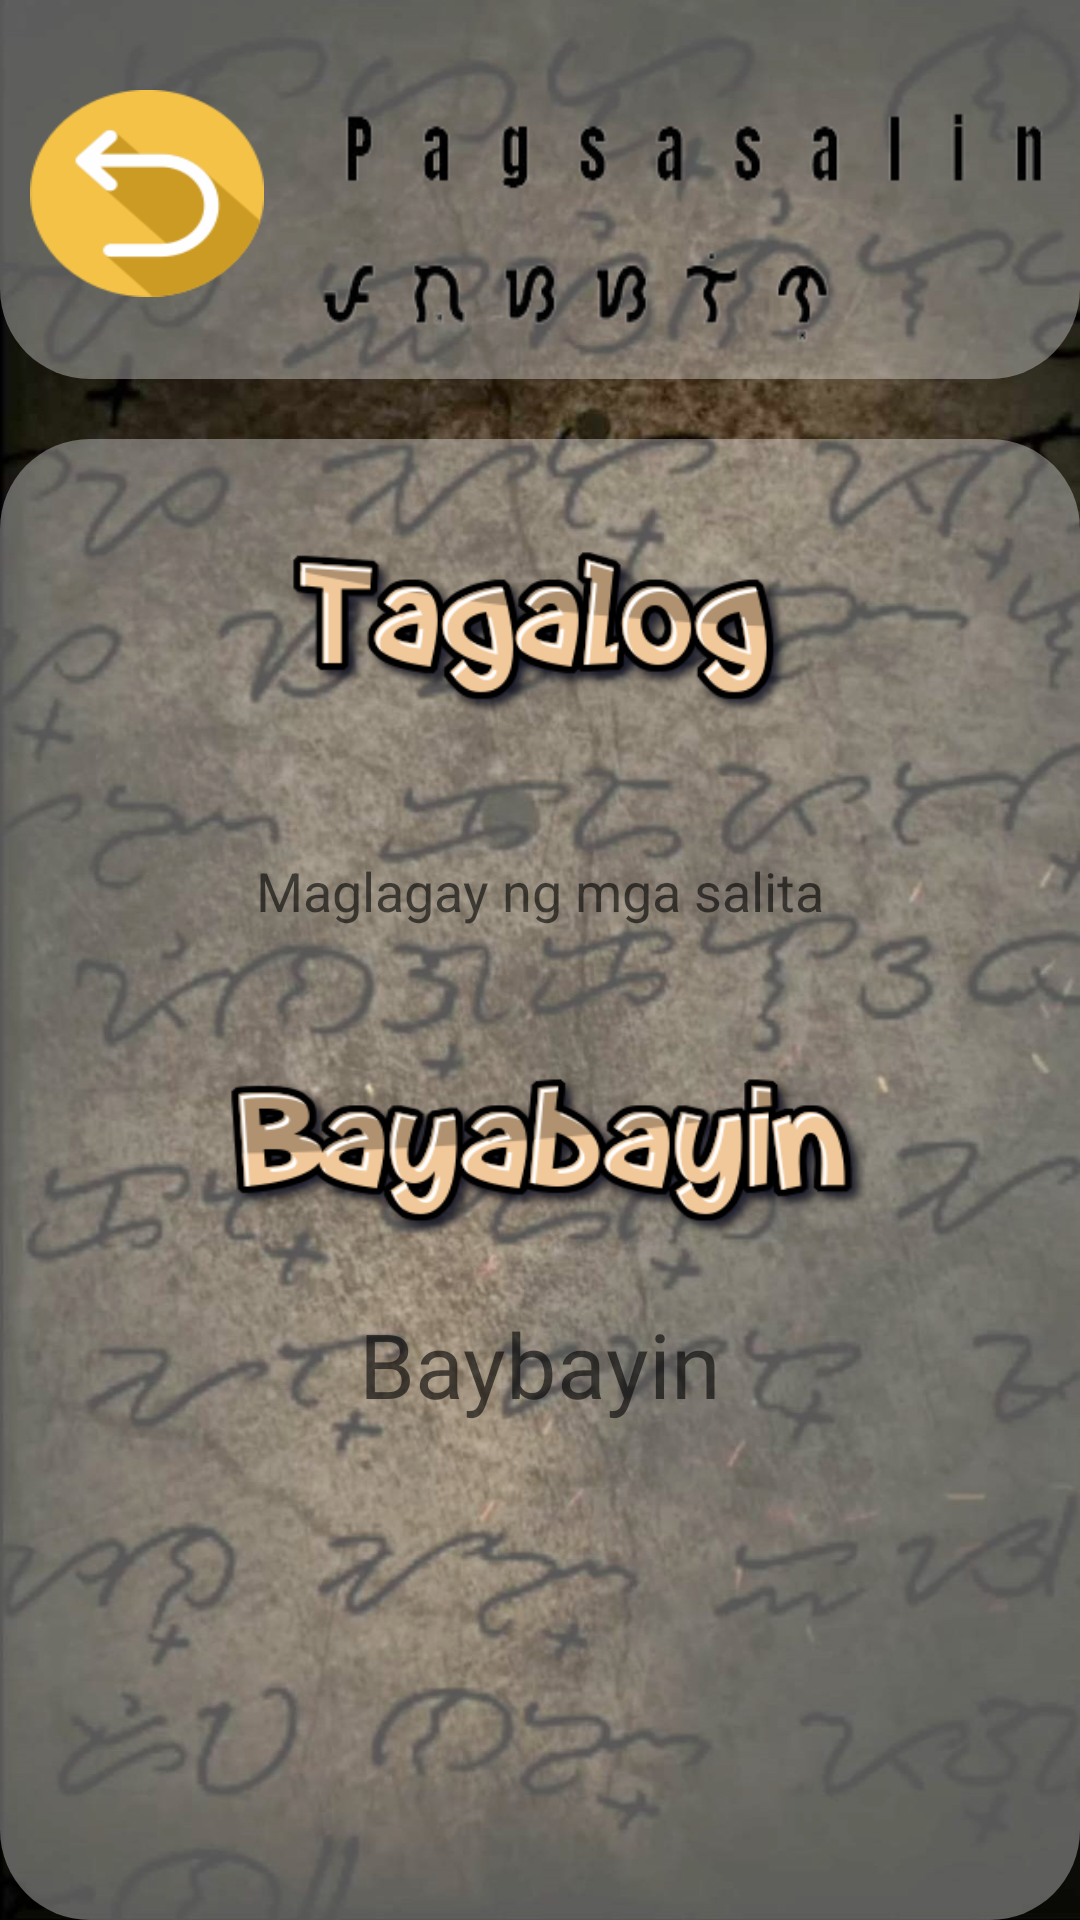

Icon click points for this 1080*1920 phone screenshot, format [x,y]:
undo: [147,193]
